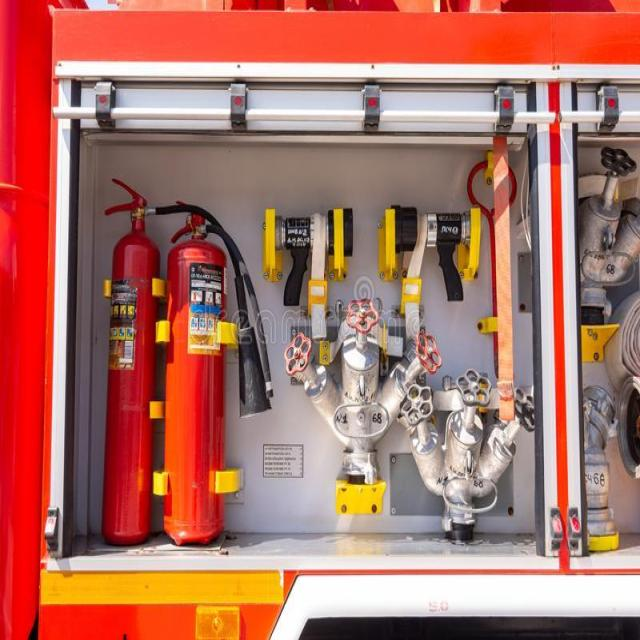fire_extinguisher: (100, 173, 282, 551), (158, 198, 274, 552)
